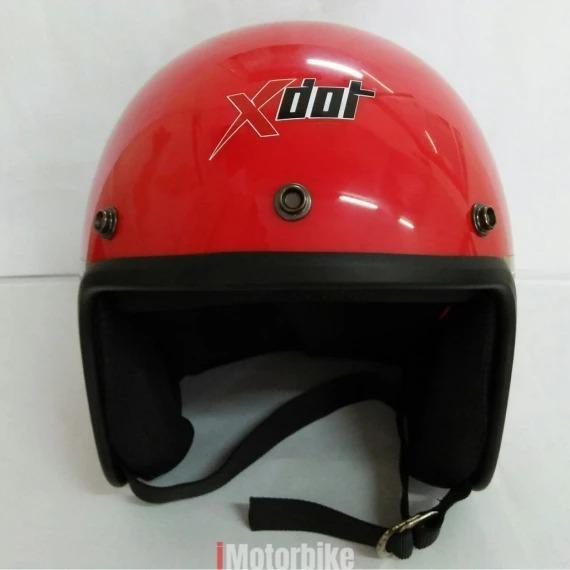helmet: (74, 15, 520, 562)
